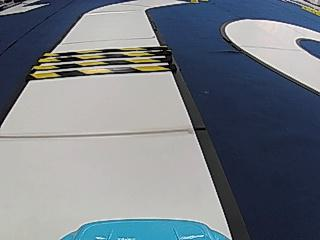bump: (25, 41, 180, 83)
